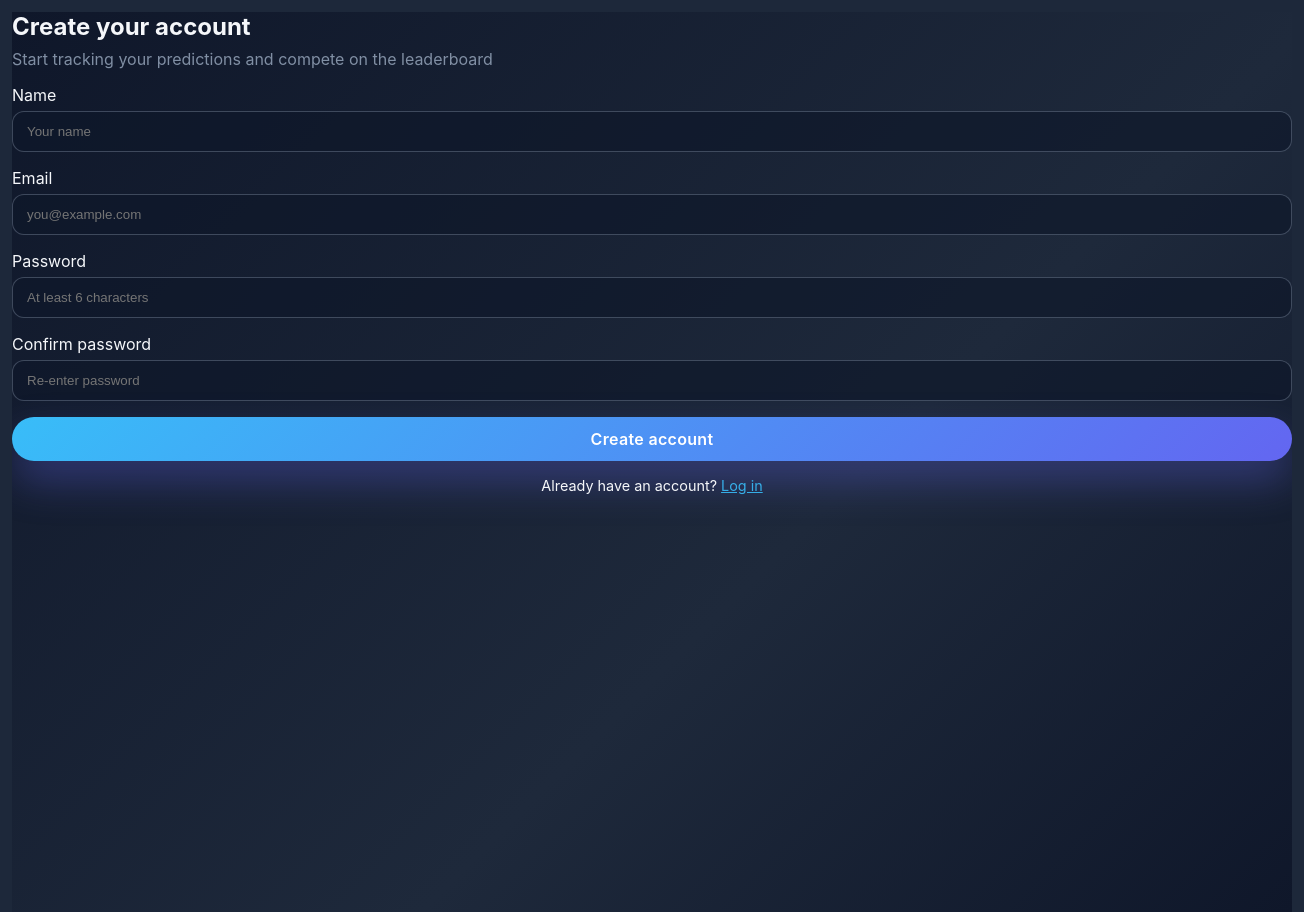
Test: RegisterForm › Form validation › should show error when passwords do not match
Type "Test User" into the field labelled "Name" at (652, 132), box [12,111,1292,152]
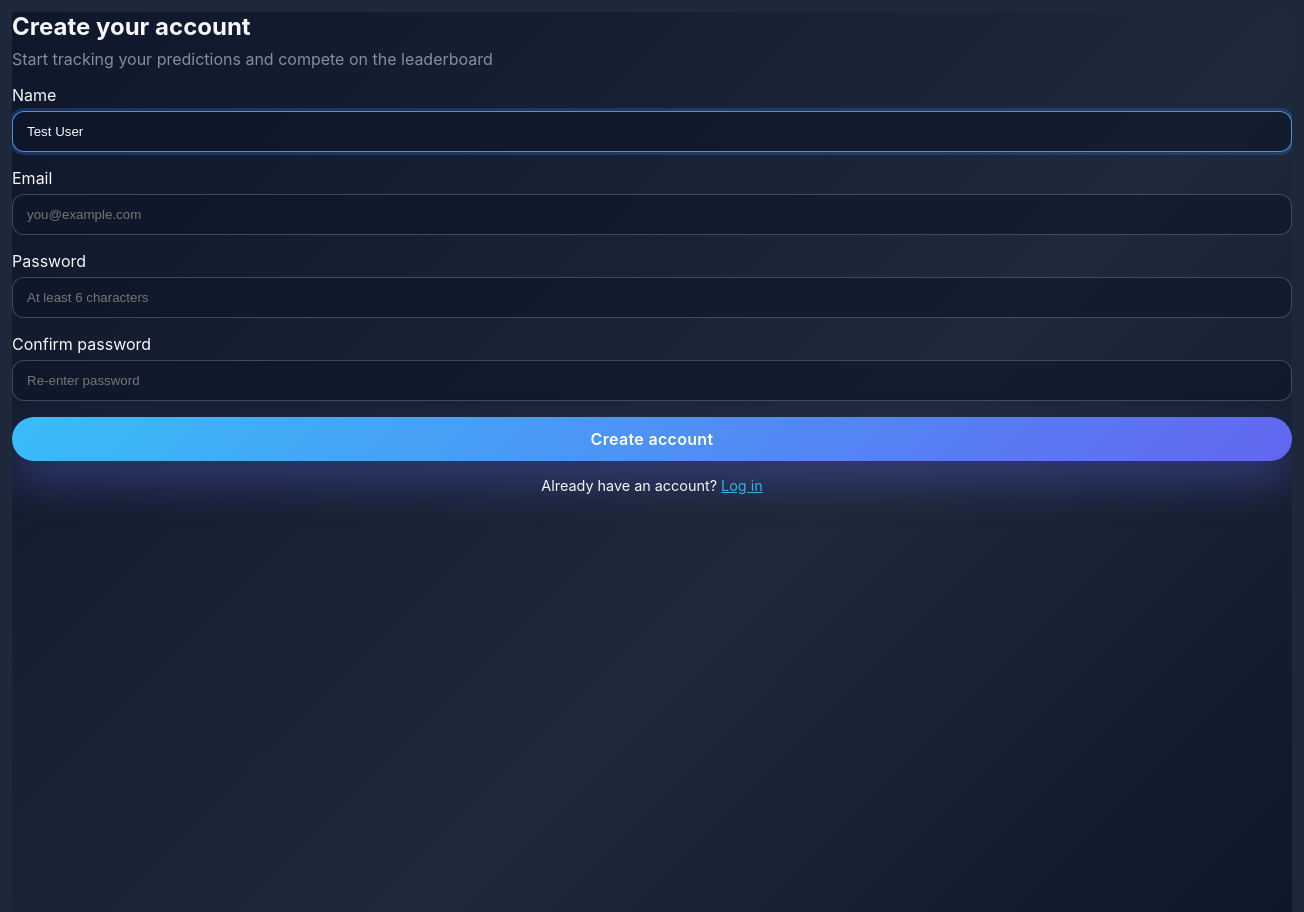
Type "test@example.com" into the field labelled "Email" at (652, 214), box [12,194,1292,235]
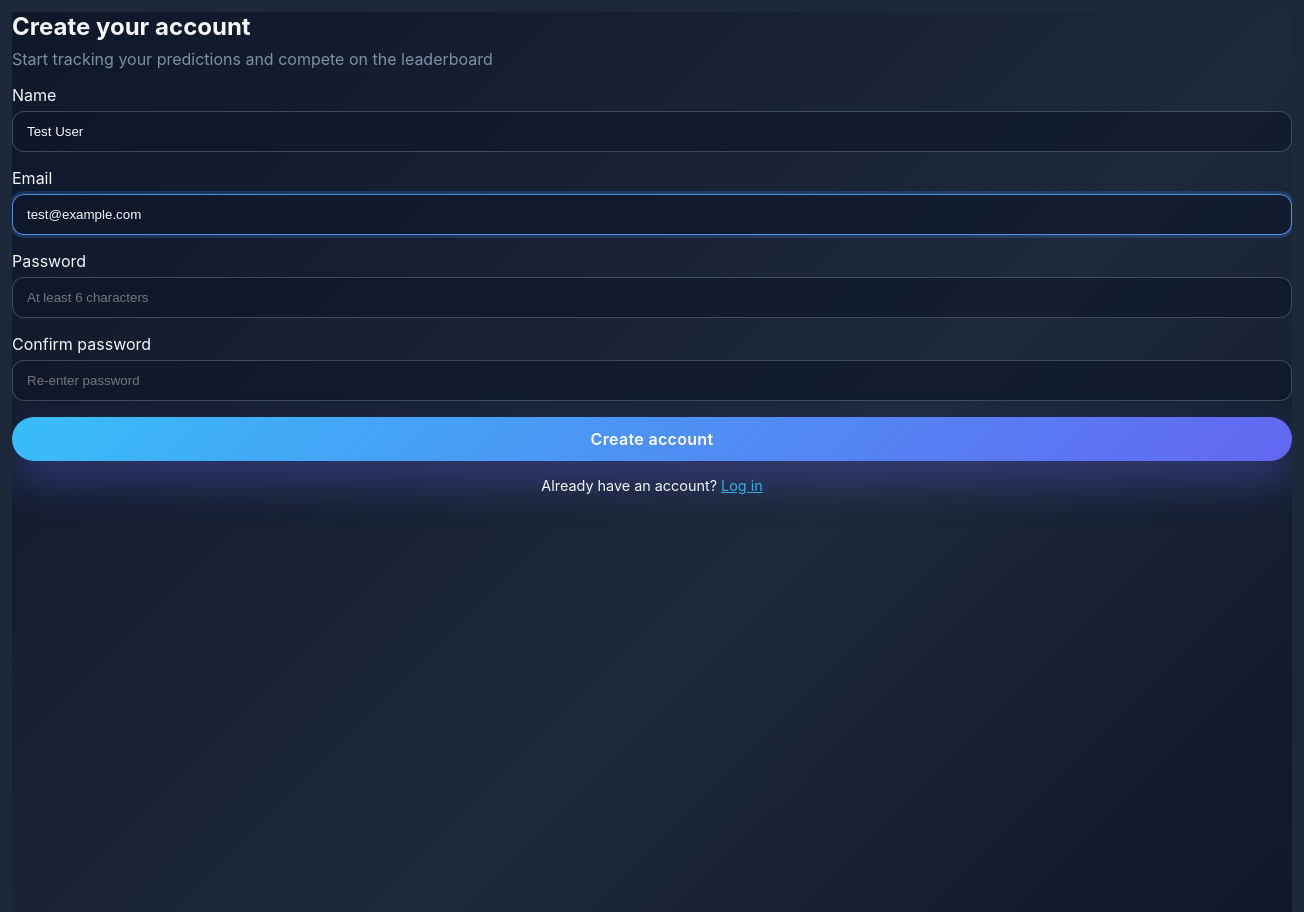
Type "password123" into the password field labelled "Password" at (652, 298), box [12,277,1292,318]
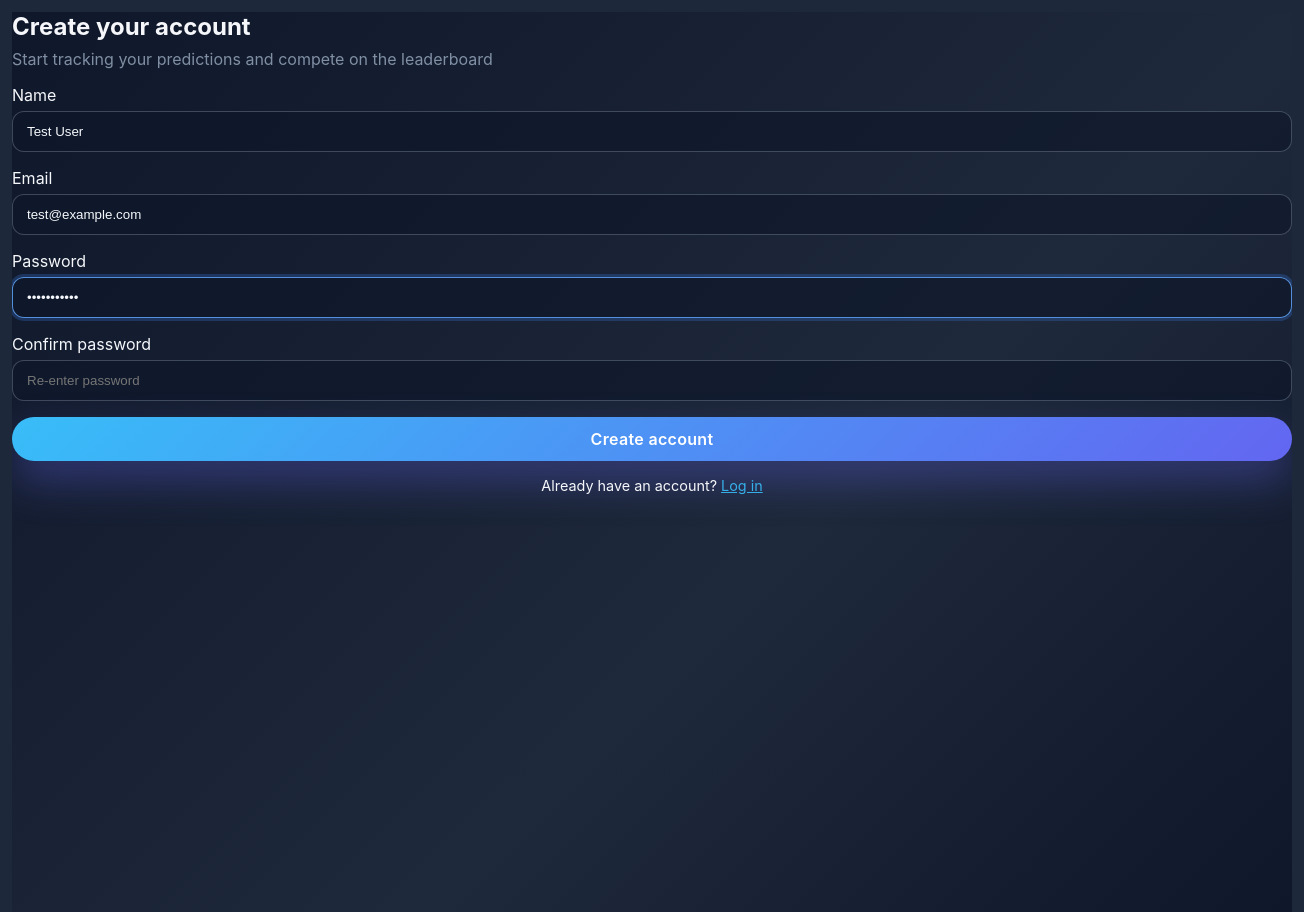
Type "password456" into the password field labelled "Confirm password" at (652, 380), box [12,360,1292,401]
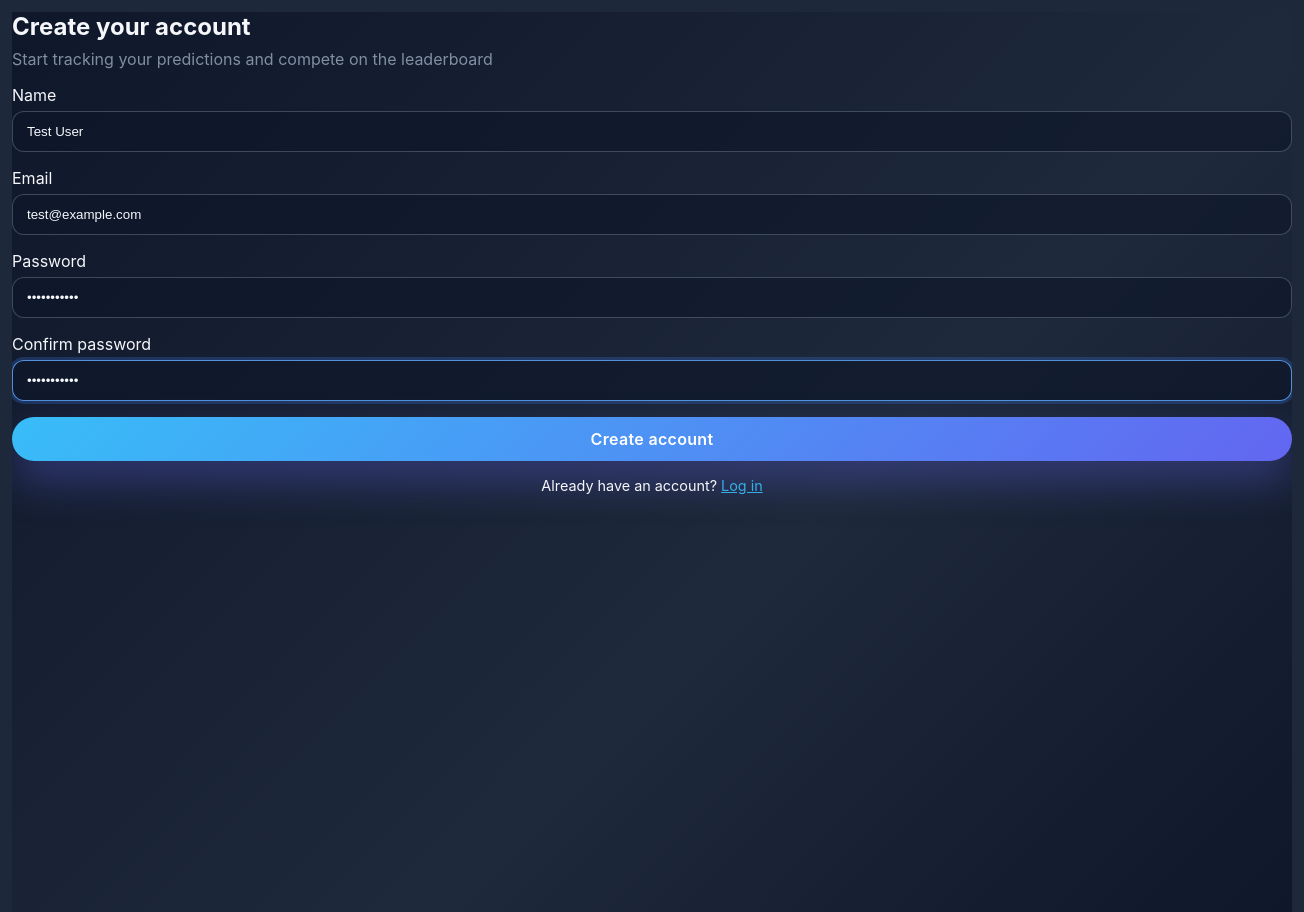
Click the button "Create account" at (652, 439), box [12,417,1292,461]
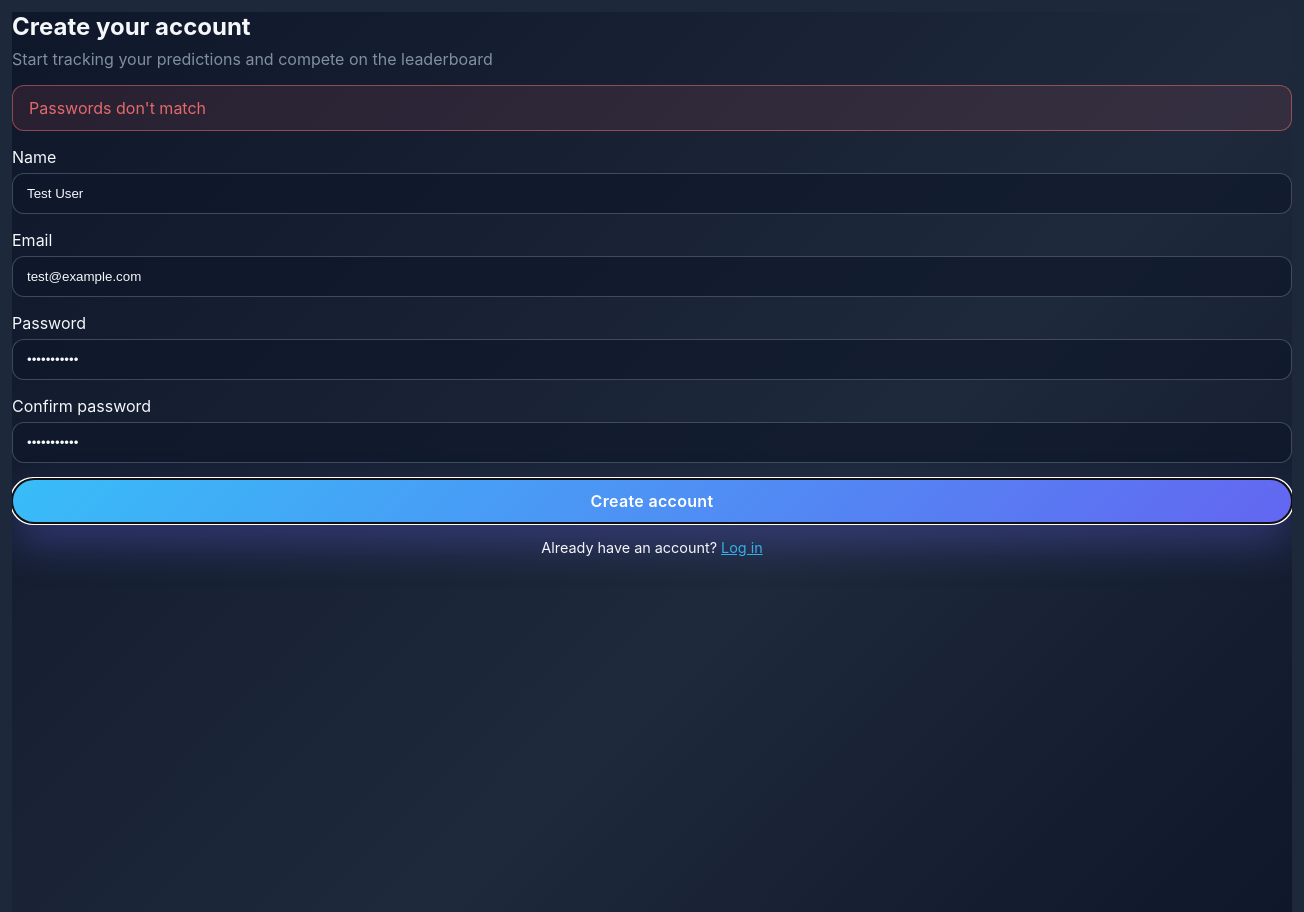
Check: the text "Passwords don't match" is shown, box [12,85,1292,131]
